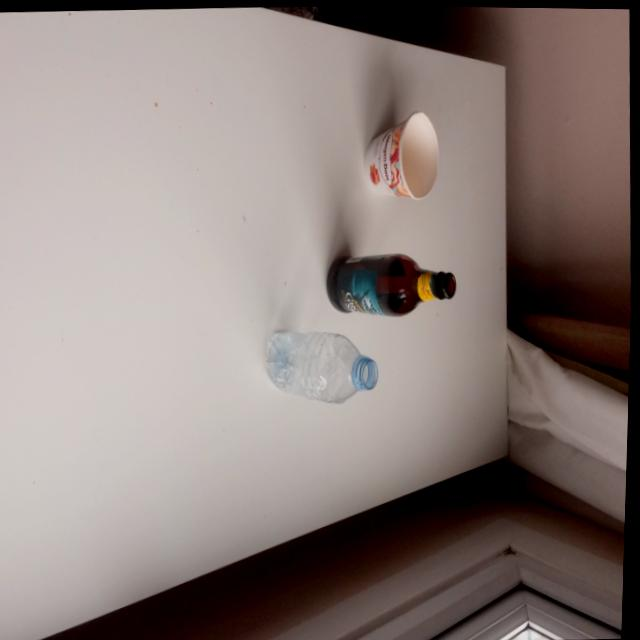Bottle-Glass: (318, 237, 466, 323)
Paper: (350, 99, 451, 219)
Plastic: (252, 316, 392, 418)
